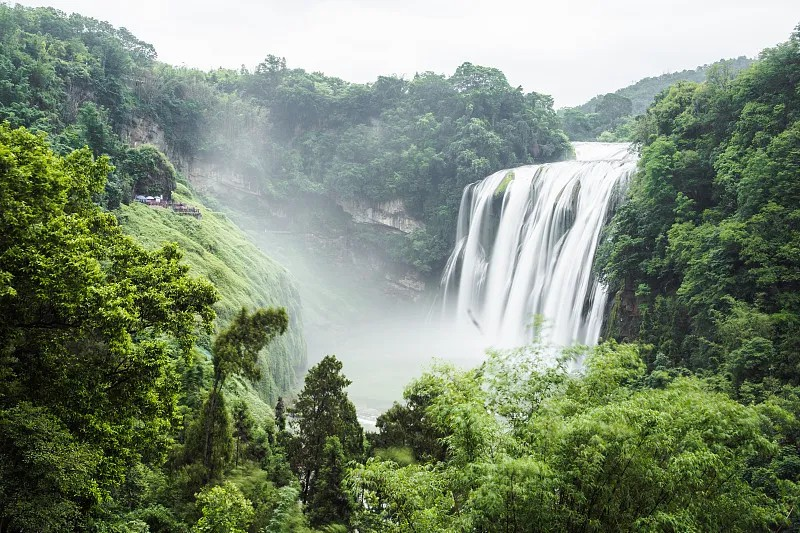Huangguoshu: (441, 142, 641, 343)
